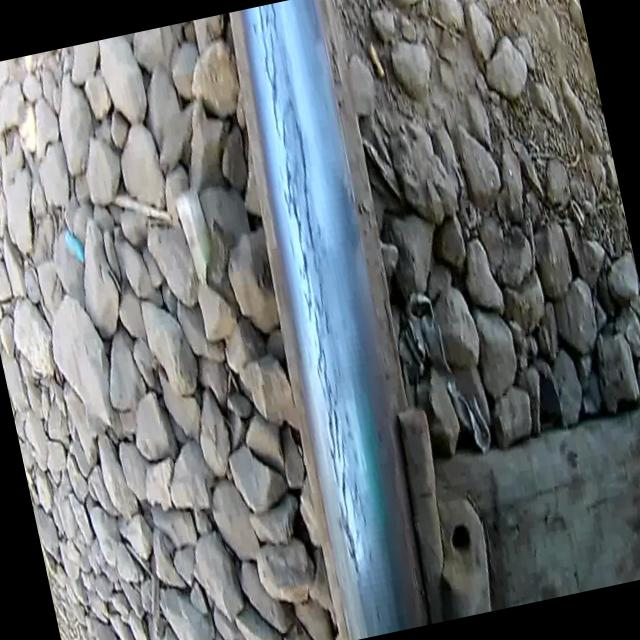Cracks: (224, 2, 399, 585)
